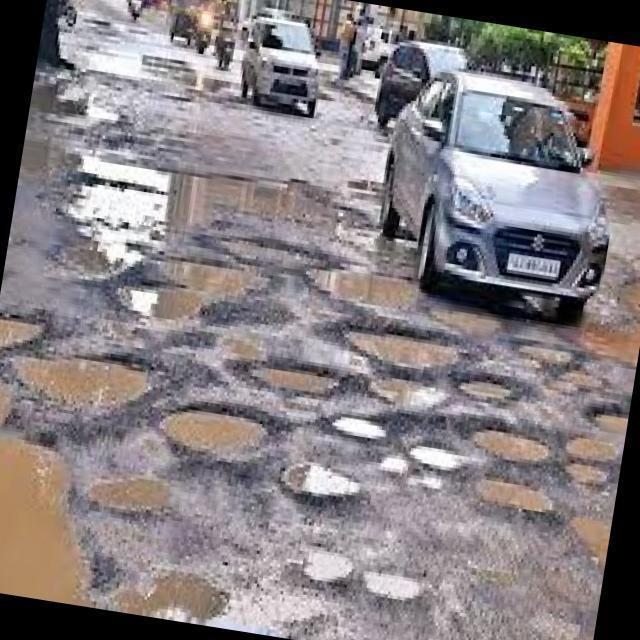pothole: (87, 192, 245, 298), (0, 462, 78, 606), (25, 361, 143, 402), (347, 332, 458, 371), (166, 418, 248, 469), (317, 270, 404, 303), (260, 356, 327, 397), (474, 432, 547, 466), (477, 480, 551, 510), (222, 398, 277, 438)
